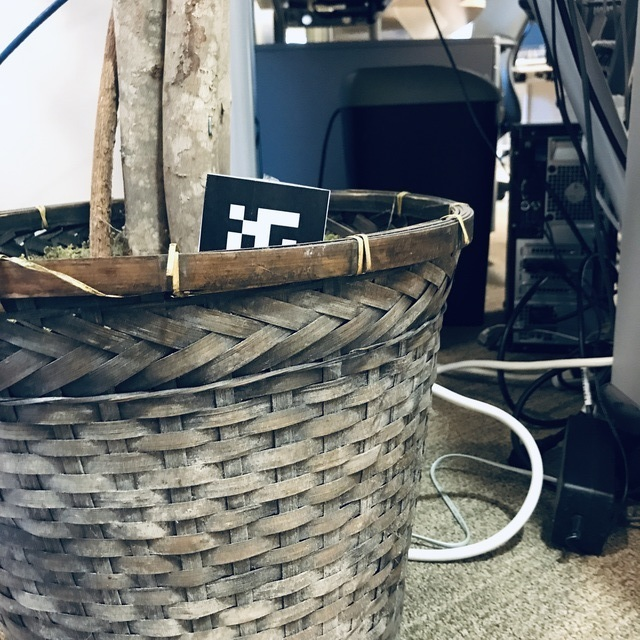ARTag: (198, 173, 331, 271)
